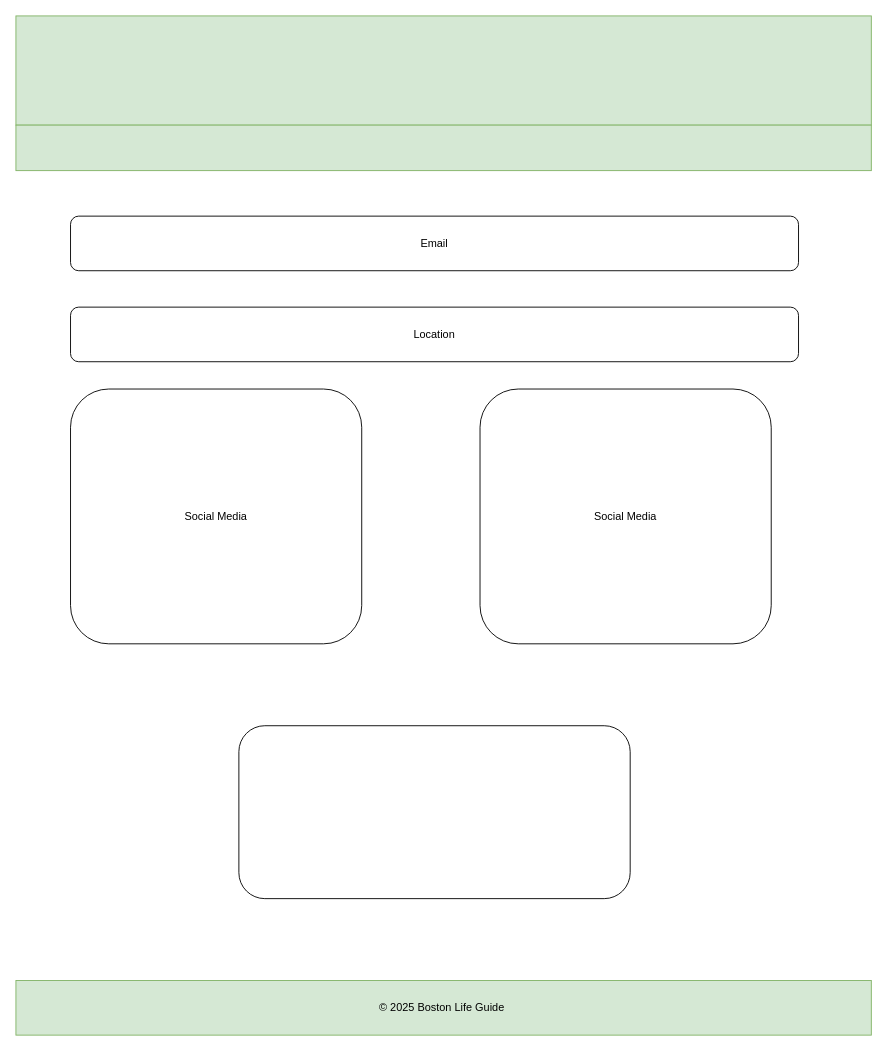
Image size: 887x1051. Some labels were removed from this diagram. Each missing label, with the box of its shape:
Boston Life Guide (Logo + Title): (15, 15, 871, 125)
Home | About | Supermarkets | Tips | Contact |: (15, 124, 871, 171)
